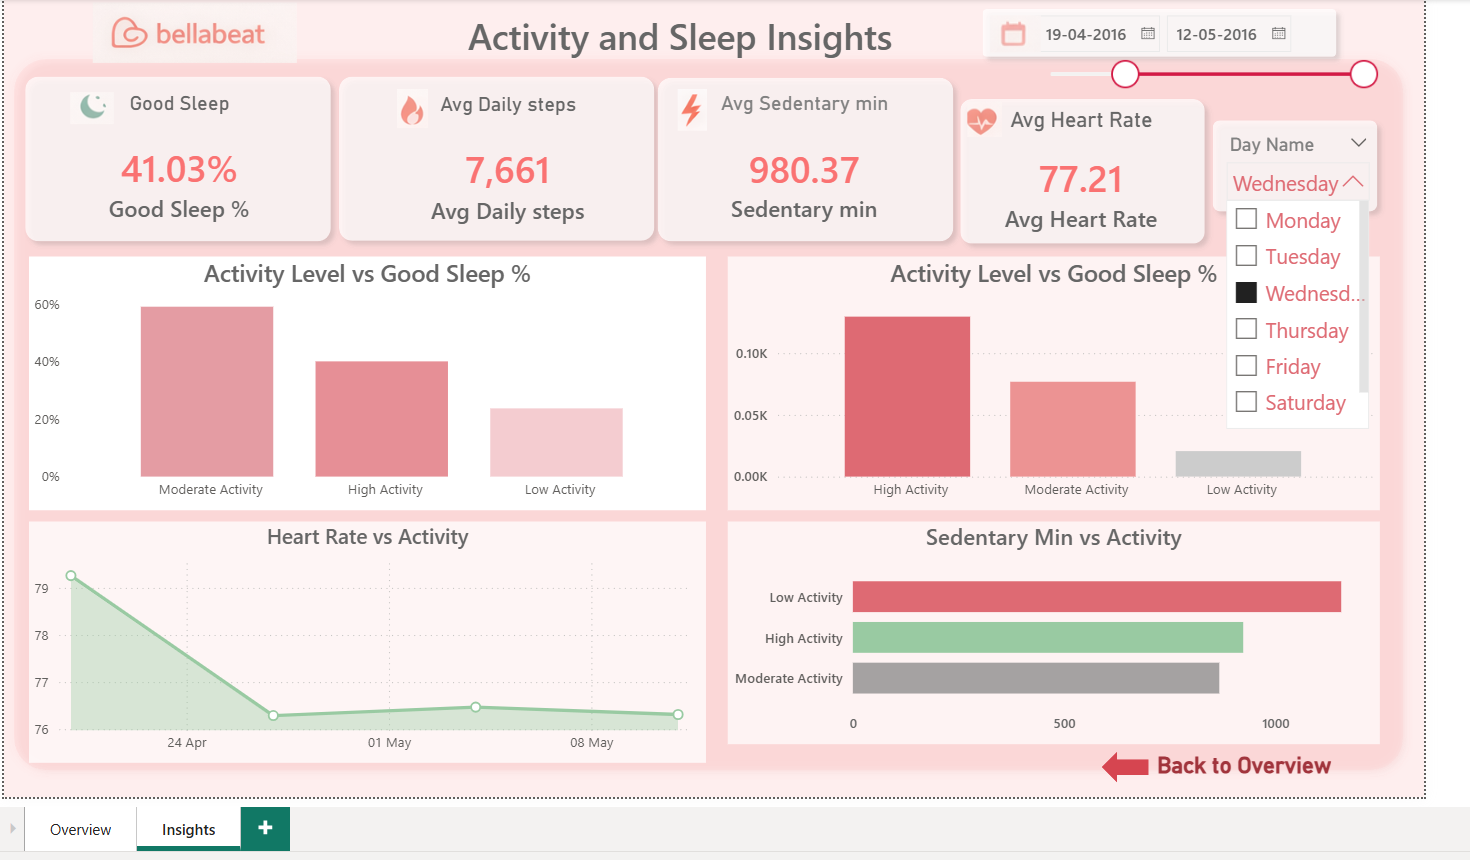

The page's visual inventory and layout, read from the dashboard file:
{"tool":"powerbi","page":{"name":"Insights ","canvas":[1280,720],"ordinal":1},"visuals":[{"type":"shape","box":[0,45.2,1270.5,659.1],"z":0},{"type":"shape","box":[293.5,61.1,302.2,166.2],"z":0,"group":"g1"},{"type":"shape","box":[580.8,62.4,284.4,165.5],"z":0,"group":"g2"},{"type":"shape","box":[853.5,80.7,238.4,148.3],"z":0,"group":"g3"},{"type":"shape","box":[873.3,0,336.7,61.1],"z":1000},{"type":"cardVisual","title":"Avg Sedentary min","fields":{"Data":["Avg(bellabeat master_daily_final.SedentaryMinutes)"]},"box":[590.9,83.3,262.9,144.4],"z":1000,"group":"g2"},{"type":"cardVisual","title":"Avg Daily steps","fields":{"Data":["bellabeat master_daily_final.Avg Daily steps"]},"box":[330.8,85.1,248.8,143.4],"z":1000,"group":"g1"},{"type":"cardVisual","title":"Avg Heart Rate","fields":{"Data":["bellabeat master_daily_final.Avg Heart Rate"]},"box":[861.9,98.2,220.6,130.9],"z":1000,"group":"g3"},{"type":"image","box":[79.8,0,183.7,60.6],"z":2000},{"type":"textbox","box":[288.5,6.7,659.6,53.8],"z":3000},{"type":"shape","box":[9.8,61.1,293.5,166.6],"z":3000,"group":"g4"},{"type":"group","id":"g1","title":"Group 1","box":[293.5,61.1,302,166.3],"z":4000},{"type":"cardVisual","title":"Good Sleep","fields":{"Data":["bellabeat master_daily_final.Good Sleep %"]},"box":[22,83.8,271.5,143.7],"z":4000,"group":"g4"},{"type":"group","id":"g2","title":"Group 1","box":[580.8,62.4,284.9,165.1],"z":5000},{"type":"group","id":"g3","title":"Group 1","box":[853.5,80.7,238.5,148],"z":6000},{"type":"group","id":"g4","title":"Group 2","box":[9.8,61.1,292.3,167.5],"z":7000},{"type":"image","box":[327.7,80.7,80.7,35.5],"z":8000},{"type":"clusteredColumnChart","title":"Activity Level vs Good Sleep %","fields":{"Y":["bellabeat master_daily_final.Step Goal %"],"Category":["bellabeat master_daily_final.Step Category"]},"box":[653,232.3,588.2,228.7],"z":9000},{"type":"slicer","fields":{"Values":["bellabeat master_daily_final.activity_date"]},"box":[917.1,4.9,330.2,80.7],"z":10000},{"type":"image","box":[888.9,14.4,45.6,33.3],"z":11000},{"type":"image","box":[601.6,80.7,37.9,37.9],"z":12000},{"type":"barChart","title":"Sedentary Min vs Activity","fields":{"Y":["Avg(bellabeat master_daily_final.SedentaryMinutes)"],"Category":["bellabeat master_daily_final.Step Category"]},"box":[653,470.8,588.2,200.5],"z":13000},{"type":"clusteredColumnChart","title":"Activity Level vs Good Sleep %","fields":{"Category":["bellabeat master_daily_final.Step Category"],"Y":["bellabeat master_daily_final.Good Sleep %"]},"box":[22,232.3,610.2,228.7],"z":14000},{"type":"lineChart","title":"Heart Rate vs Activity","fields":{"Category":["bellabeat master_daily_final.activity_date"],"Y":["bellabeat master_daily_final.Avg Heart Rate"]},"box":[22.1,470.9,610.5,217.4],"z":15000},{"type":"image","box":[862.1,92.9,44,31.8],"z":16000},{"type":"image","box":[59.9,79.5,39.1,36.7],"z":17000},{"type":"shape","box":[1081,100.3,166.3,100.3],"z":18000},{"type":"slicer","fields":{"Values":["bellabeat master_daily_final.Day Name"]},"box":[1092,116.2,149.2,88],"z":19000},{"type":"actionButton","title":"Back to Overview","box":[865.8,678.7,331.4,28.1],"z":20000,"group":"g5"},{"type":"shape","box":[989.3,678.7,42.8,28.1],"z":20001,"group":"g5"},{"type":"group","id":"g5","title":"Group 3","box":[865.8,678.7,331.4,28.1],"z":20002}]}

Visuals, with their boxes on the page's 1280x720 design canvas (x1, y1, x2, y2). These are canvas units, not pixel positions in the 1470x860 screenshot, which may show the page scaled, cropped or inside an application window:
shape: 0,45,1270,704
shape: 294,61,596,227
shape: 581,62,865,228
shape: 854,81,1092,229
shape: 873,0,1210,61
"Avg Sedentary min" cardVisual: 591,83,854,228
"Avg Daily steps" cardVisual: 331,85,580,228
"Avg Heart Rate" cardVisual: 862,98,1082,229
image: 80,0,264,61
textbox: 288,7,948,60
shape: 10,61,303,228
"Group 1" group: 294,61,596,227
"Good Sleep" cardVisual: 22,84,294,228
"Group 1" group: 581,62,866,228
"Group 1" group: 854,81,1092,229
"Group 2" group: 10,61,302,229
image: 328,81,408,116
"Activity Level vs Good Sleep %" clusteredColumnChart: 653,232,1241,461
slicer - bellabeat master_daily_final.activity_date: 917,5,1247,86
image: 889,14,934,48
image: 602,81,640,119
"Sedentary Min vs Activity" barChart: 653,471,1241,671
"Activity Level vs Good Sleep %" clusteredColumnChart: 22,232,632,461
"Heart Rate vs Activity" lineChart: 22,471,633,688
image: 862,93,906,125
image: 60,80,99,116
shape: 1081,100,1247,201
slicer - bellabeat master_daily_final.Day Name: 1092,116,1241,204
"Back to Overview" actionButton: 866,679,1197,707
shape: 989,679,1032,707
"Group 3" group: 866,679,1197,707
